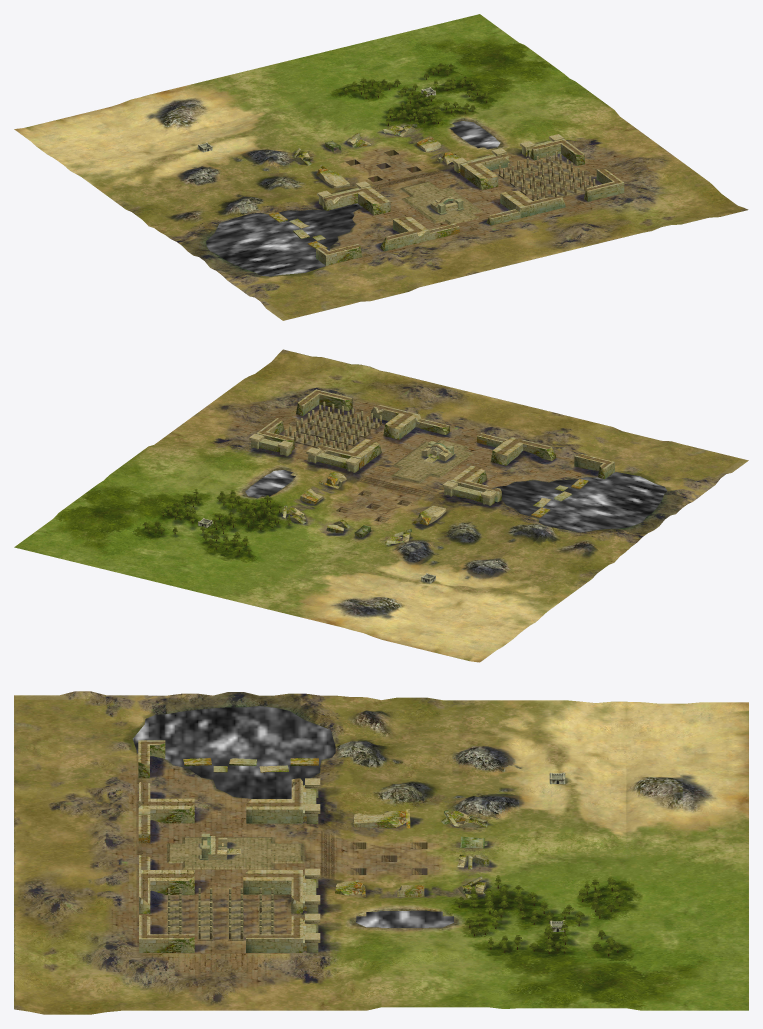
The model's file is Apotheosis.fbx.
3 renders of one model, top to bottom at view 1: azimuth 30°, elevation 25°; view 2: azimuth 150°, elevation 25°; view 3: azimuth 270°, elevation 25°, orthographic. The views are drawn at different scales.
Visible parts, largest first — view 1: _1_0_node, _0_0_node, _2_0_node, _5_0_node, _4_0_node; view 2: _1_0_node, _0_0_node, _2_0_node, _5_0_node, _4_0_node; view 3: _1_0_node, _0_0_node, _2_0_node, _5_0_node, _4_0_node.
Part boxes in pixels (x1,y1,x2,y2): _1_0_node: [14, 14, 748, 320]; _0_0_node: [152, 72, 600, 252]; _2_0_node: [269, 123, 624, 265]; _5_0_node: [206, 121, 500, 276]; _4_0_node: [343, 63, 489, 125]; _1_0_node: [14, 349, 748, 662]; _0_0_node: [152, 405, 610, 607]; _2_0_node: [249, 389, 614, 545]; _5_0_node: [245, 470, 667, 532]; _4_0_node: [142, 488, 291, 553]; _1_0_node: [14, 691, 748, 1014]; _0_0_node: [151, 746, 611, 951]; _2_0_node: [138, 740, 489, 952]; _5_0_node: [133, 706, 454, 927]; _4_0_node: [455, 875, 624, 956].
Bounding box in the file's own units: 240 × 12.81 × 240.
